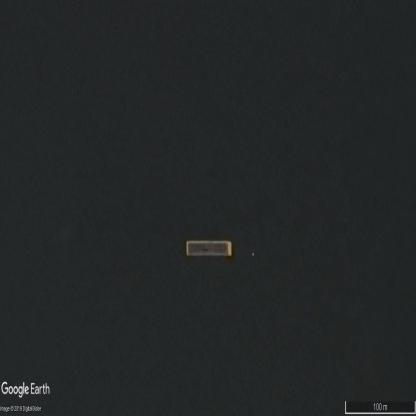ship: (185, 237, 233, 259)
